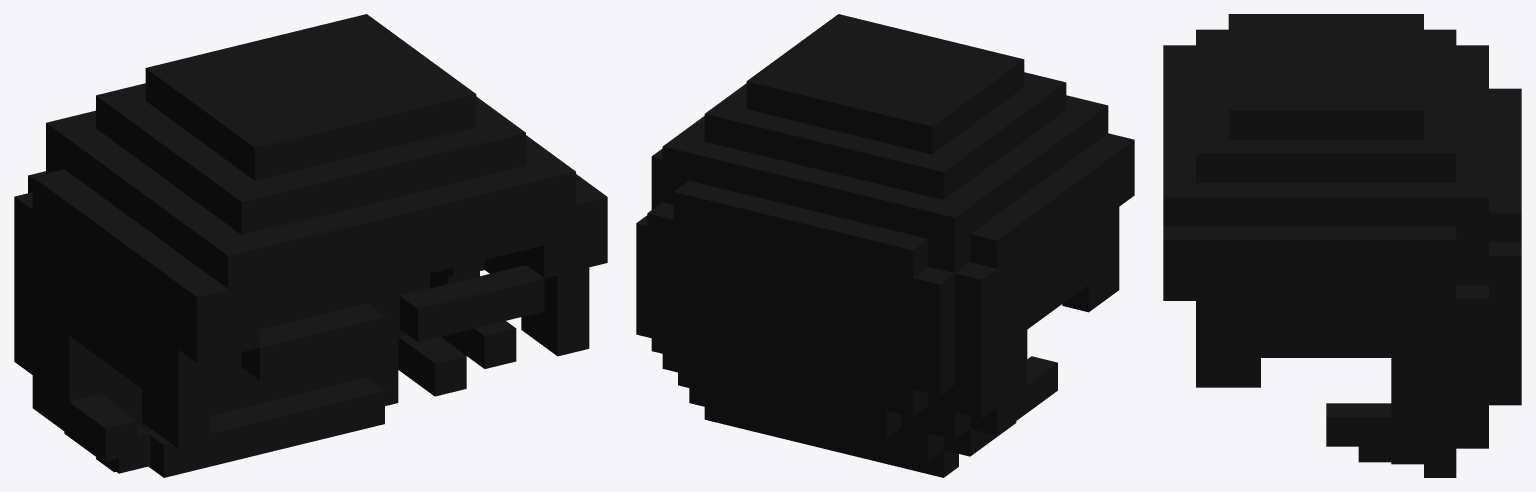
File: Union_2.fbx
3 views of the same model, side by side, from view 1: azimuth 30°, elevation 25°; view 2: azimuth 150°, elevation 25°; view 3: azimuth 270°, elevation 25° (orthographic). The views are drawn at different scales.
Visible parts, largest first — view 1: Union_2; view 2: Union_2; view 3: Union_2.
Part boxes in pixels (left/top/right/bottom): Union_2: left=14, top=14, right=607, bottom=477; Union_2: left=636, top=14, right=1134, bottom=477; Union_2: left=1163, top=14, right=1521, bottom=477.
Size of the model in its own units: 13 by 12 by 11.
Materials: 1 (1 with a texture image).
